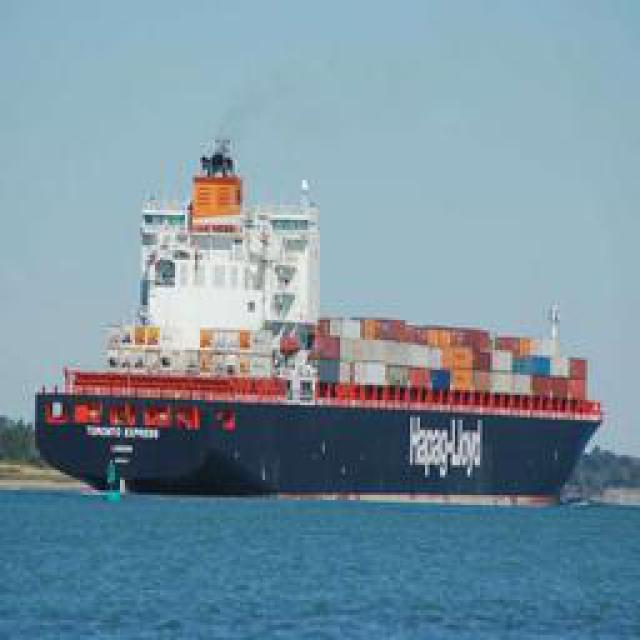Ship: (33, 91, 618, 499)
